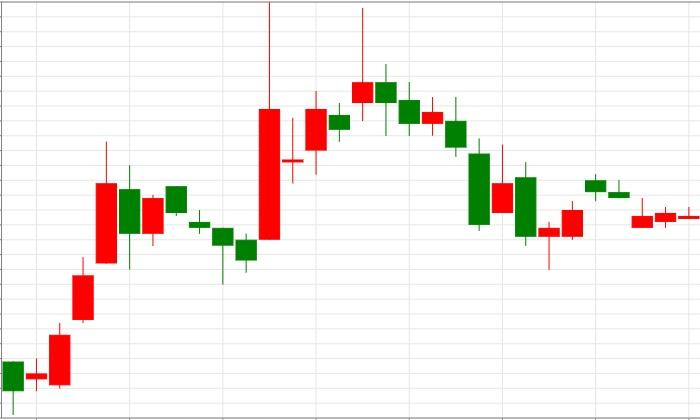morning_star_rise: (352, 8, 583, 270)
three_black_crows_fall: (2, 142, 234, 415)
